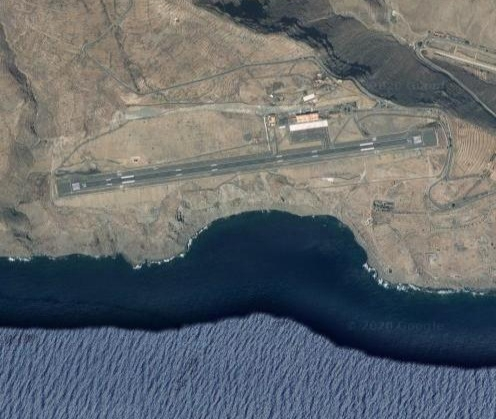airport: (52, 109, 440, 200)
motorway: (424, 169, 496, 211), (413, 38, 457, 83), (190, 60, 255, 87), (457, 77, 496, 119), (113, 76, 190, 96), (439, 36, 496, 62), (82, 35, 111, 76), (255, 52, 319, 70), (106, 1, 137, 33)
